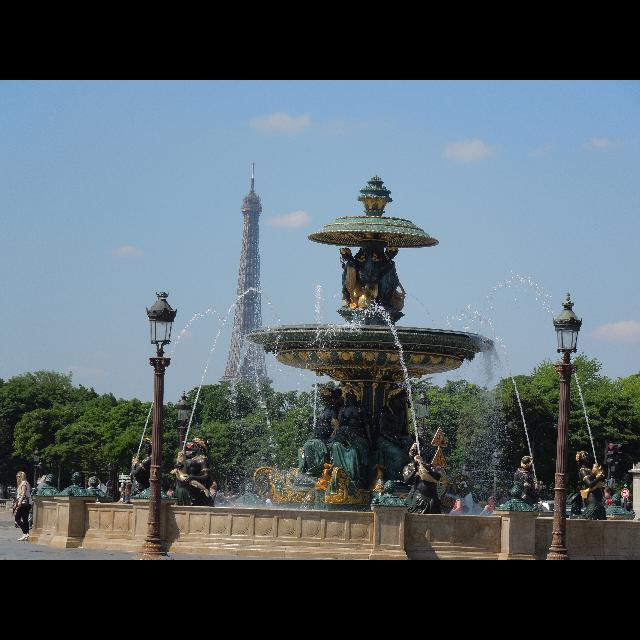head: (488, 496, 496, 506), (17, 472, 25, 482), (209, 482, 217, 491), (88, 477, 95, 487), (604, 486, 612, 494), (127, 482, 133, 490), (42, 475, 48, 483), (455, 493, 461, 499), (168, 485, 174, 491), (265, 493, 271, 499), (122, 490, 126, 498)
person: (202, 480, 238, 540), (13, 471, 33, 542), (444, 492, 470, 544), (596, 484, 618, 538), (476, 496, 499, 544), (87, 476, 109, 526), (36, 474, 54, 526), (262, 492, 280, 538), (121, 482, 137, 530), (114, 490, 130, 532), (162, 484, 178, 520)
